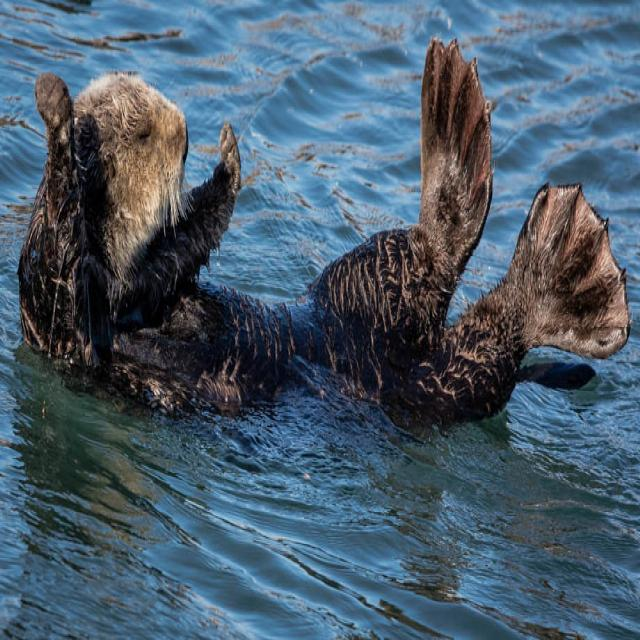otter: (19, 37, 629, 398)
